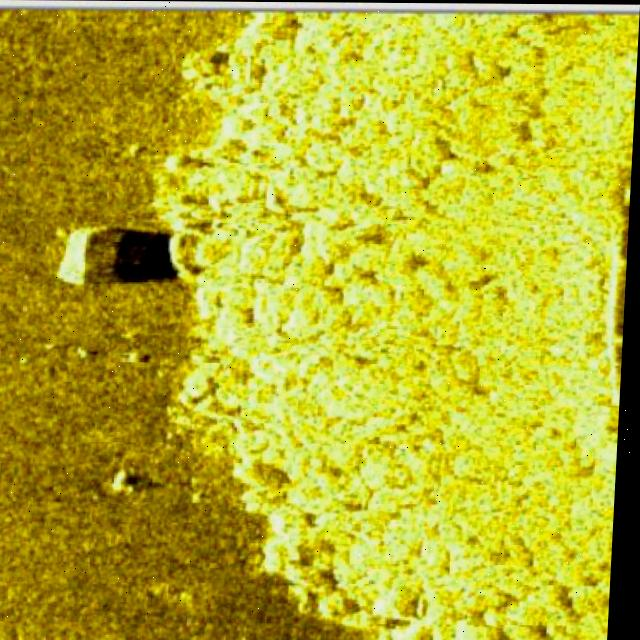bedrock group: (142, 7, 640, 640)
